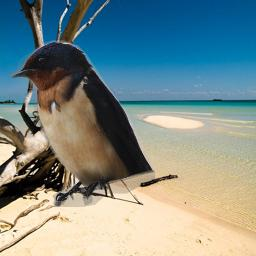Swallow: (10, 40, 155, 207)
